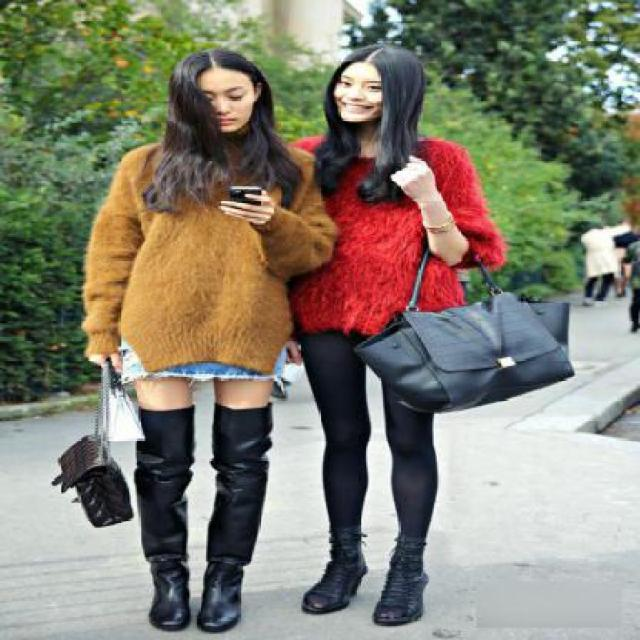Person: (2, 18, 304, 639), (284, 41, 538, 630)
